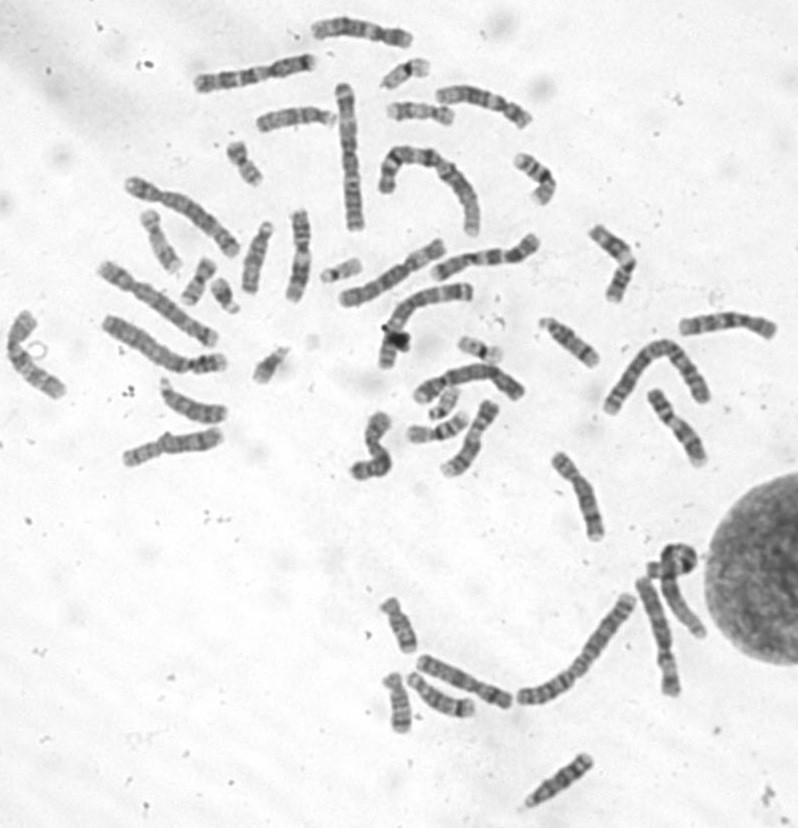chromosomes: (518, 591, 640, 709), (94, 260, 219, 348), (124, 175, 241, 262), (378, 144, 483, 239), (602, 335, 714, 417), (372, 284, 475, 372), (101, 313, 229, 375), (339, 238, 449, 309), (634, 574, 683, 702), (647, 542, 709, 641), (416, 652, 517, 712), (192, 51, 319, 96), (5, 312, 66, 404), (644, 388, 709, 473), (549, 450, 605, 545), (332, 82, 367, 231), (433, 232, 541, 280), (413, 364, 527, 408), (438, 398, 498, 479), (433, 85, 532, 131), (125, 425, 225, 469), (520, 753, 596, 810), (587, 223, 639, 305), (159, 372, 229, 427), (536, 313, 602, 369), (407, 670, 475, 719), (306, 17, 414, 47), (283, 208, 314, 305), (351, 411, 392, 483), (676, 312, 781, 340), (139, 209, 183, 274), (238, 219, 277, 292), (257, 105, 338, 136), (512, 153, 558, 207), (379, 597, 418, 654), (375, 57, 431, 91), (405, 413, 468, 443), (385, 101, 455, 127), (384, 673, 413, 735), (227, 141, 265, 188), (183, 257, 215, 309), (253, 345, 291, 384), (206, 276, 240, 318), (458, 337, 507, 366), (424, 383, 461, 420), (319, 255, 363, 285)
